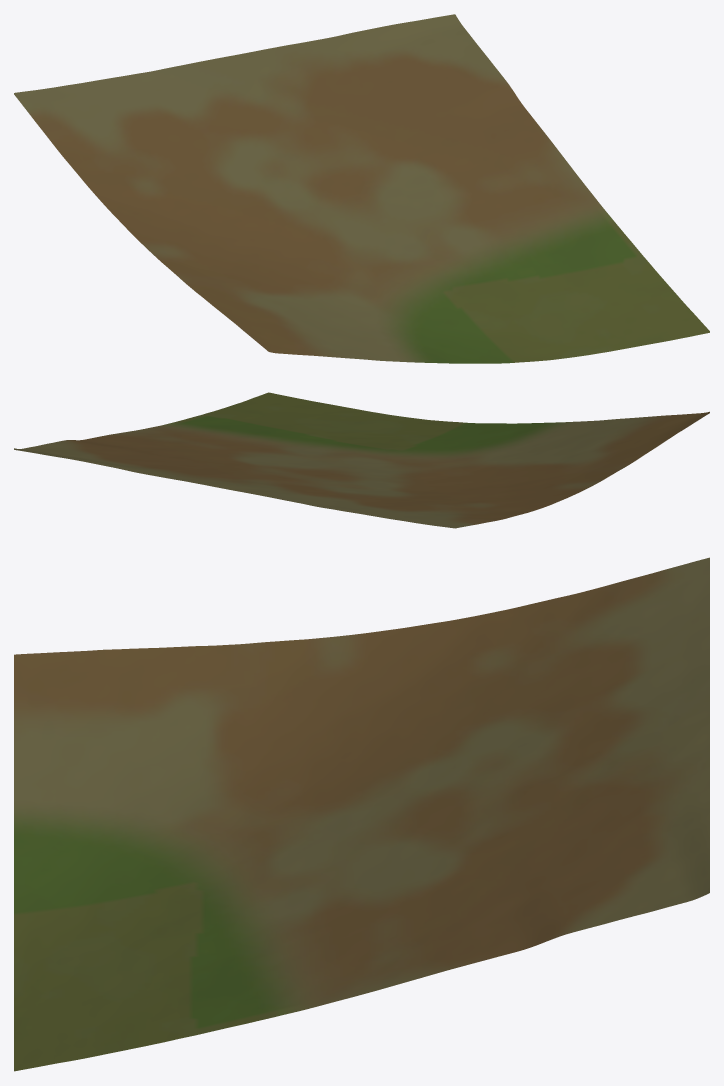
File: land_n_00_00.glb
3 views of the same model, one above another, from view 1: azimuth 30°, elevation 25°; view 2: azimuth 150°, elevation 25°; view 3: azimuth 270°, elevation 25° (orthographic). The views are drawn at different scales.
Visible parts, largest first — view 1: land_n_00_00; view 2: land_n_00_00; view 3: land_n_00_00.
Boxes of the visible parts, x1,y1,x2,y2 form: land_n_00_00: (14,14,709,363); land_n_00_00: (14,392,709,528); land_n_00_00: (14,557,709,1071).
Size of the model in its own units: 480 by 167 by 480.
